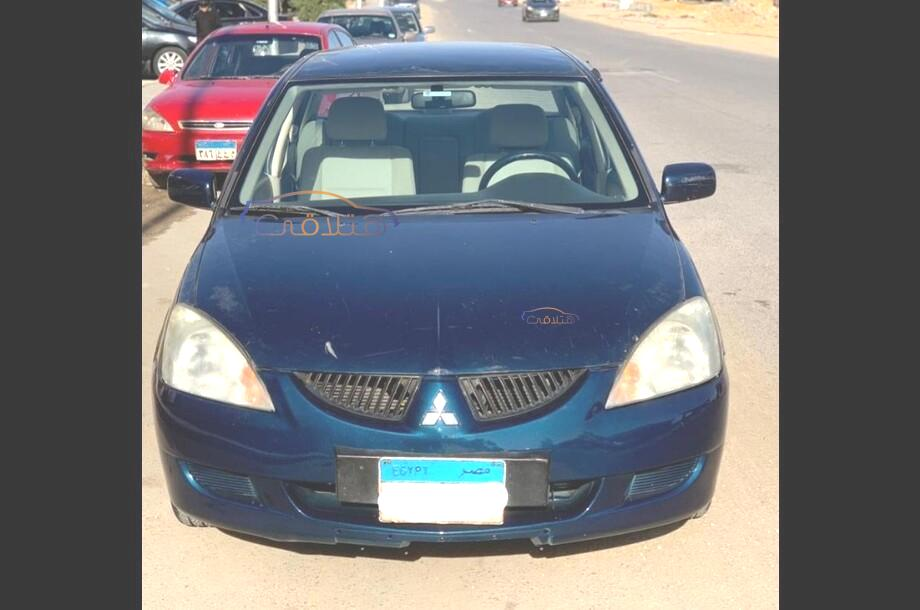Mitsubishi: (414, 378, 471, 441)
